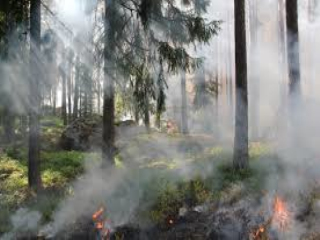fire: (271, 195, 290, 227), (92, 205, 113, 233), (163, 119, 182, 135)
smoke: (231, 14, 318, 189), (10, 191, 87, 237)
